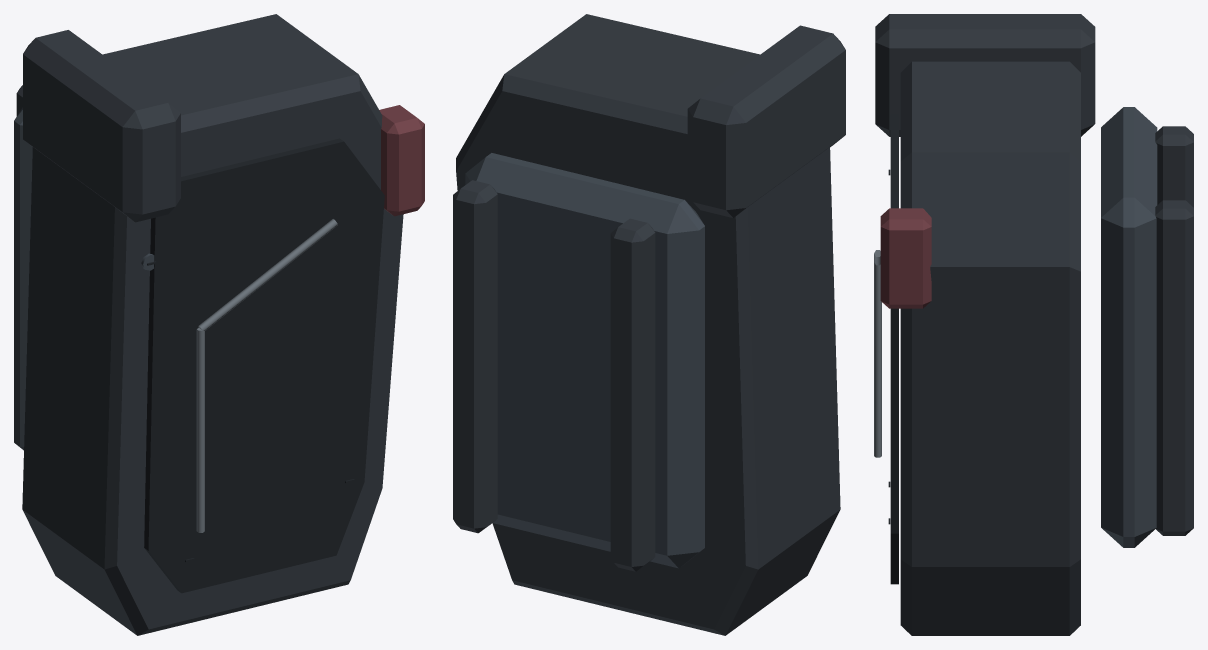
Rendered from retention-holster.glb.
3 renders of one model, left to right at view 1: azimuth 30°, elevation 25°; view 2: azimuth 150°, elevation 25°; view 3: azimuth 270°, elevation 25°, orthographic. The views are drawn at different scales.
Visible parts, largest first — view 1: retention-holster; view 2: retention-holster; view 3: retention-holster.
Part boxes in pixels (box(x1,y1,x2,y2)): retention-holster: box(14, 14, 424, 635); retention-holster: box(453, 14, 845, 635); retention-holster: box(874, 14, 1193, 635).
Size of the model in its own units: 0.1215 by 0.202 by 0.1134.
